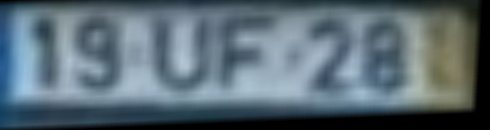1: (30, 18, 61, 95)
2: (306, 18, 358, 99)
8: (361, 21, 412, 98)
9: (76, 16, 125, 95)
F: (218, 16, 279, 96)
U: (152, 17, 219, 99)
